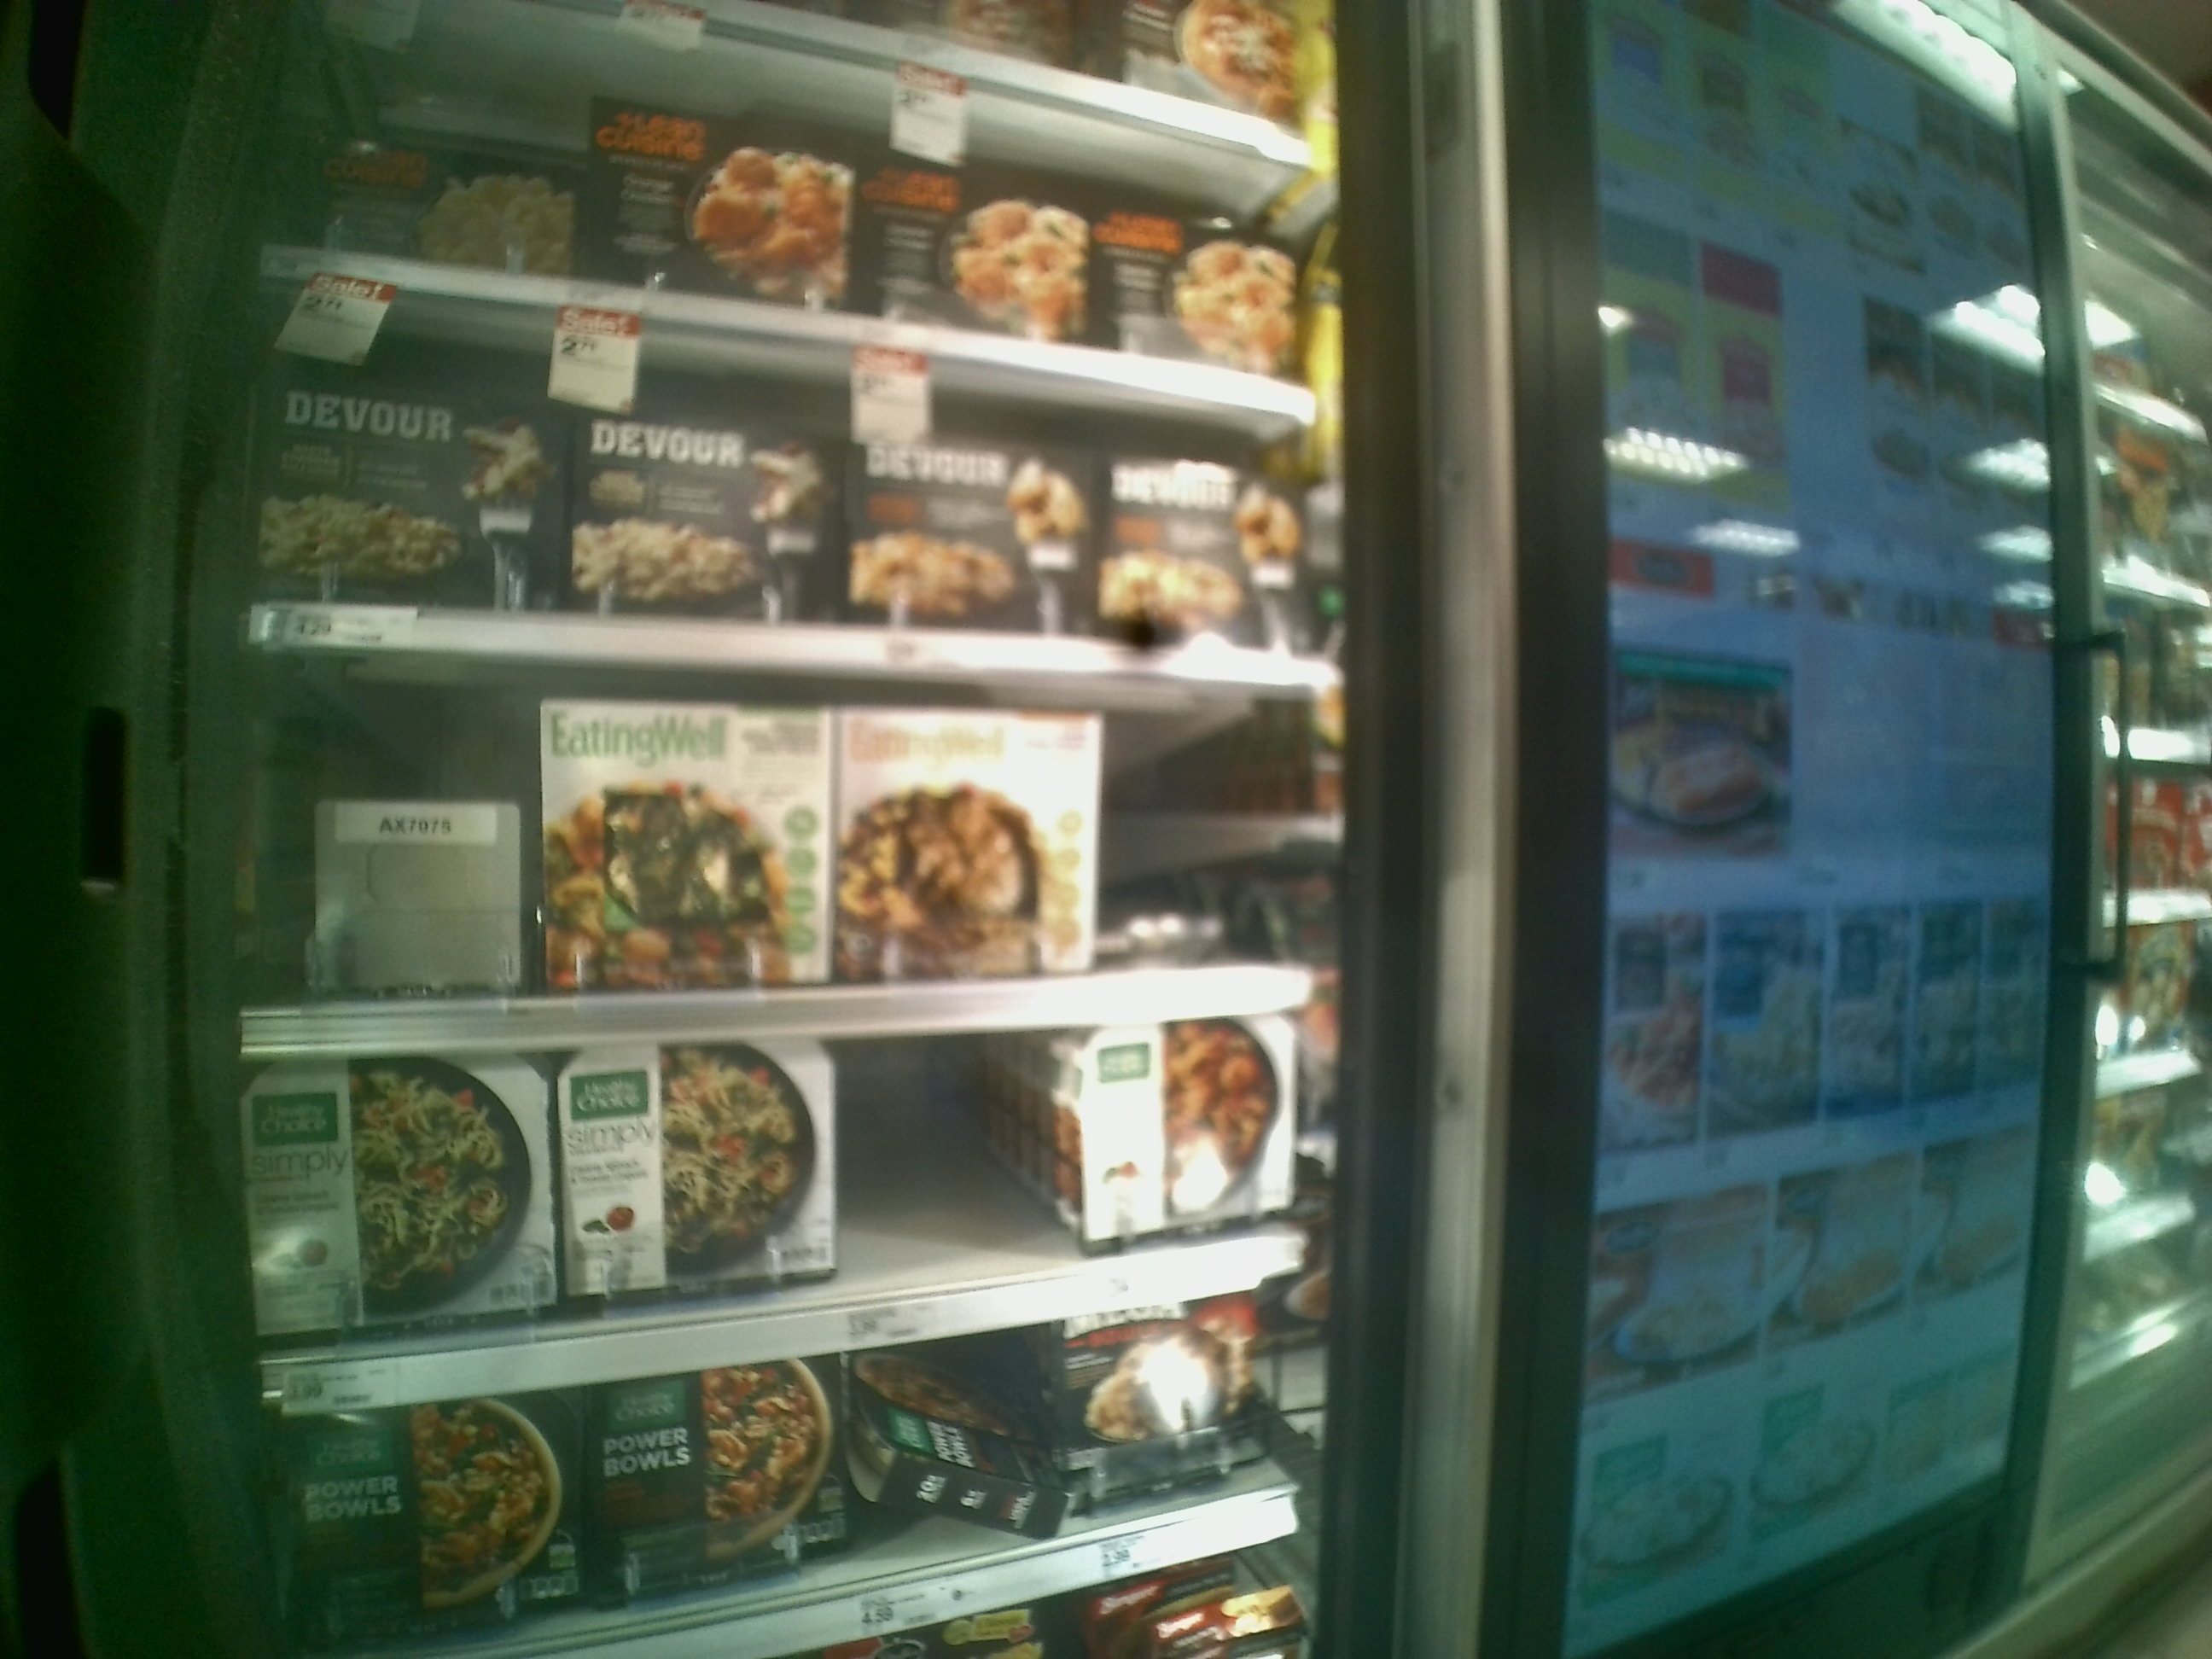shelf: (228, 648, 1331, 1054), (251, 282, 1327, 681)
